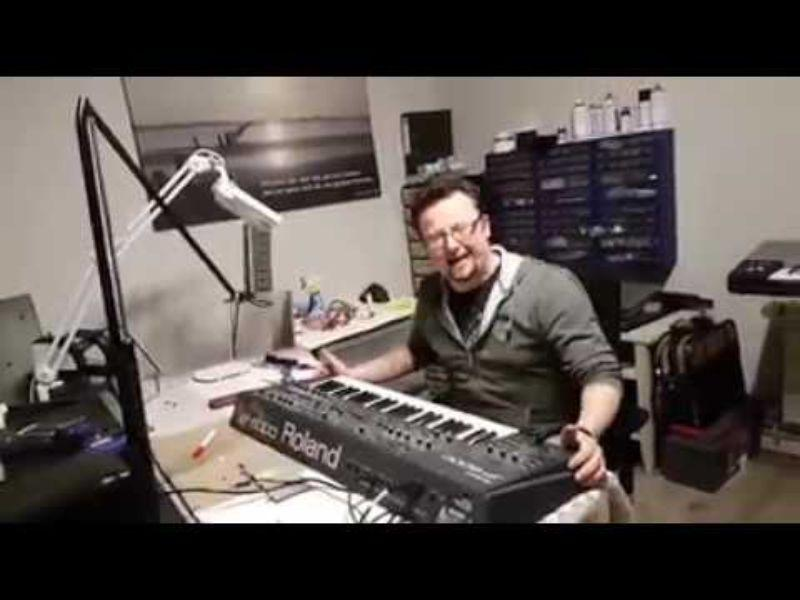synthesizer: (225, 363, 585, 511)
